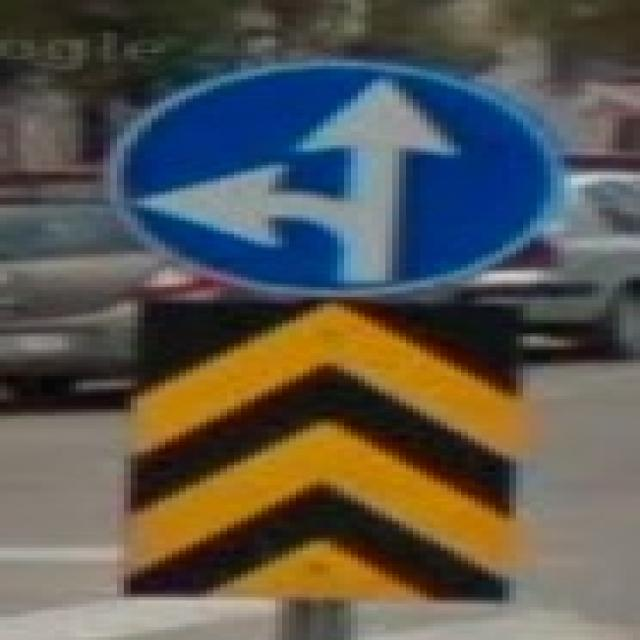Straight or Left: (105, 60, 559, 298)
